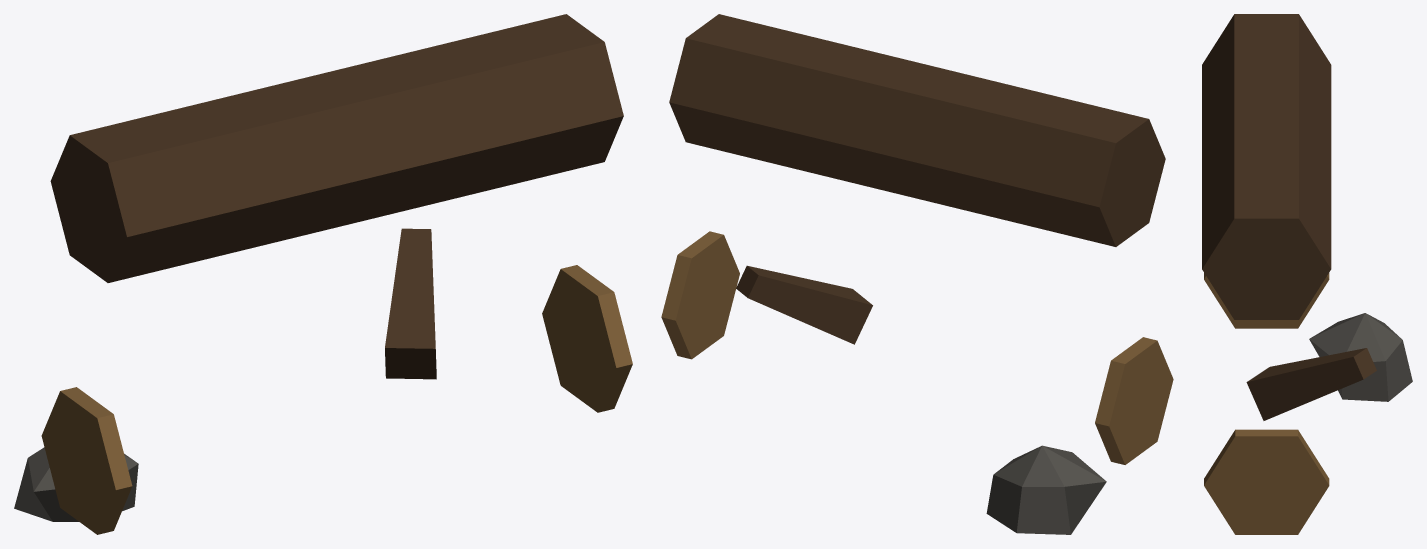
The model's file is log.glb.
3 views of the same model, side by side, from view 1: azimuth 30°, elevation 25°; view 2: azimuth 150°, elevation 25°; view 3: azimuth 270°, elevation 25° (orthographic). The views are drawn at different scales.
Parts seen in each view (by area): view 1: bole, cut, cut.001, stub, rock; view 2: bole, rock, cut.001, cut, stub; view 3: bole, cut.001, stub, rock, cut.
Boxes of the visible parts, x1,y1,x2,y2 form: bole: [50, 14, 623, 282]; cut: [41, 387, 132, 534]; cut.001: [542, 265, 632, 412]; stub: [385, 228, 436, 379]; rock: [14, 447, 138, 521]; bole: [669, 14, 1165, 246]; rock: [986, 445, 1106, 534]; cut.001: [661, 231, 739, 359]; cut: [1095, 337, 1173, 464]; stub: [736, 265, 872, 344]; bole: [1202, 14, 1331, 319]; cut.001: [1204, 429, 1329, 534]; stub: [1246, 348, 1376, 420]; rock: [1309, 313, 1412, 401]; cut: [1204, 273, 1329, 328].
Bounding box in the file's own units: 28.24 × 21.42 × 11.75.
